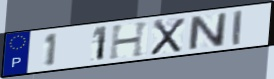1: (91, 24, 109, 63), (42, 31, 59, 69)
H: (107, 20, 152, 61)
I: (232, 8, 244, 47)
N: (187, 11, 228, 51)
X: (149, 17, 188, 57)
